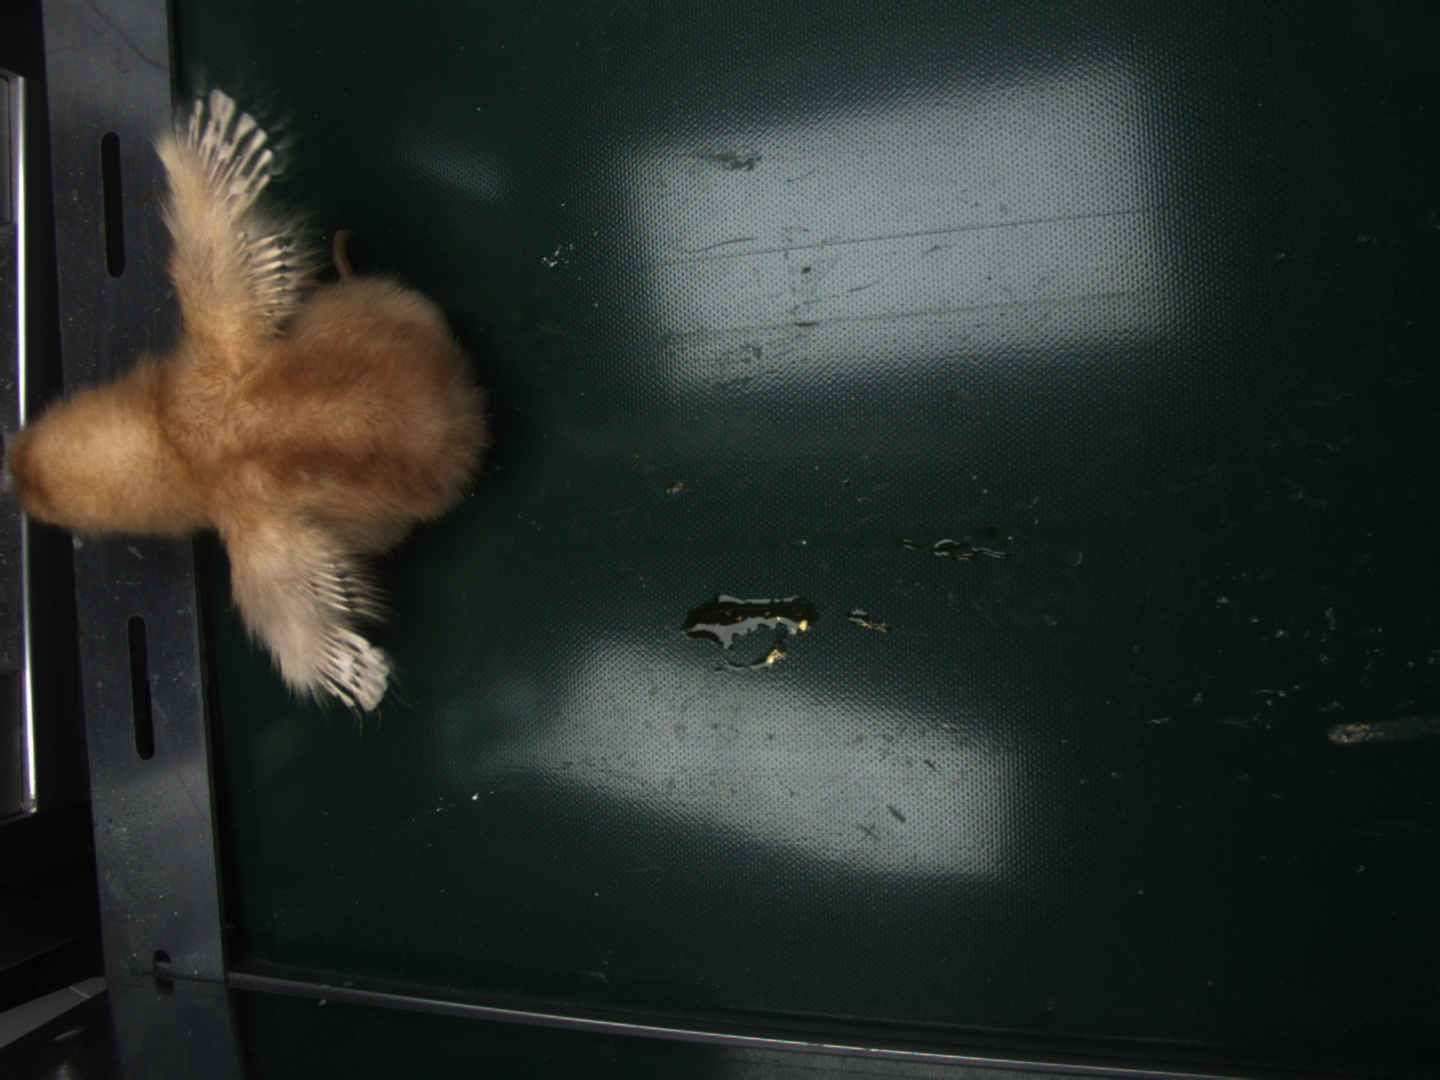female: (179, 92, 270, 206), (310, 624, 358, 700)
